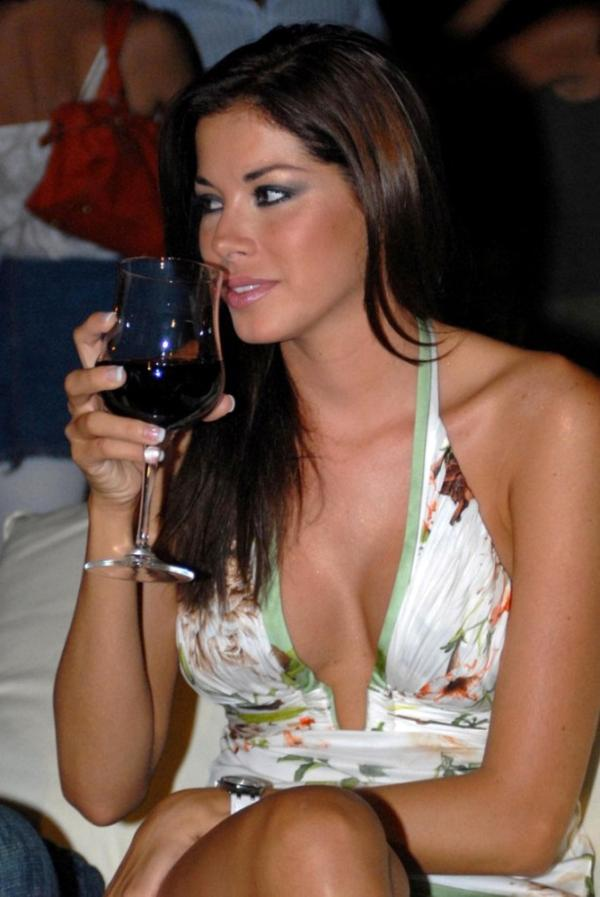person: (54, 18, 600, 893)
